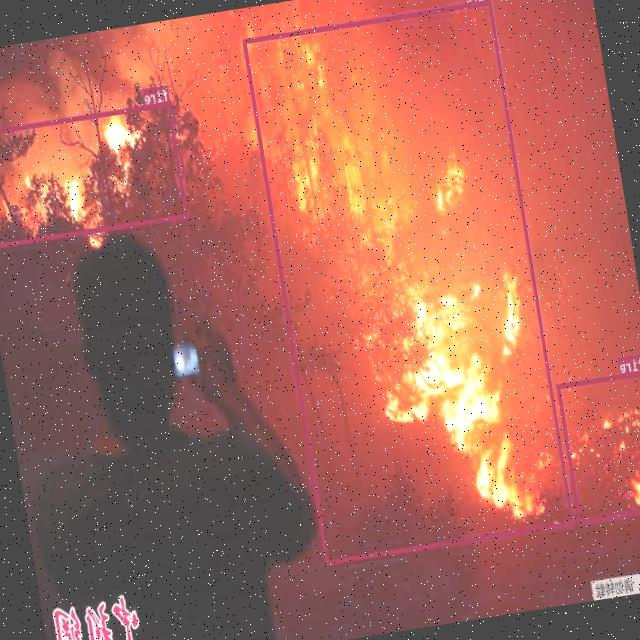fire: (243, 0, 574, 564), (0, 100, 189, 247), (557, 369, 640, 523)
